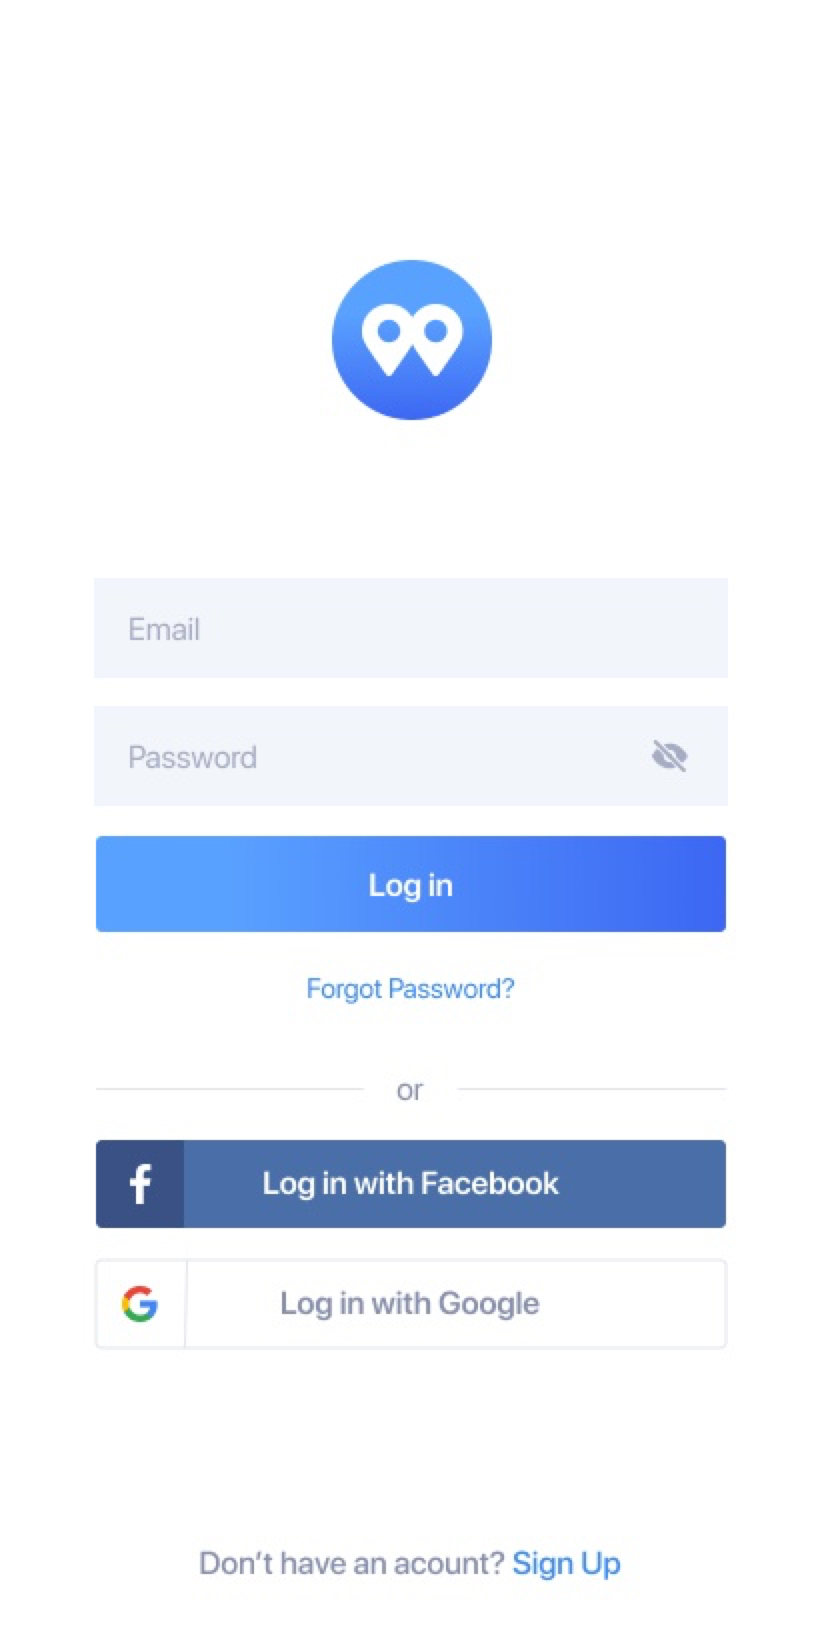EditText: (94, 578, 729, 679), (94, 706, 728, 807)
Icon: (651, 740, 689, 773)
Image: (331, 260, 494, 422)
Text: (201, 1548, 621, 1582), (307, 976, 517, 1006), (130, 743, 258, 769), (130, 615, 201, 642), (397, 1082, 426, 1102)
TextButton: (96, 836, 728, 933), (94, 1257, 729, 1351), (96, 1139, 728, 1229)
